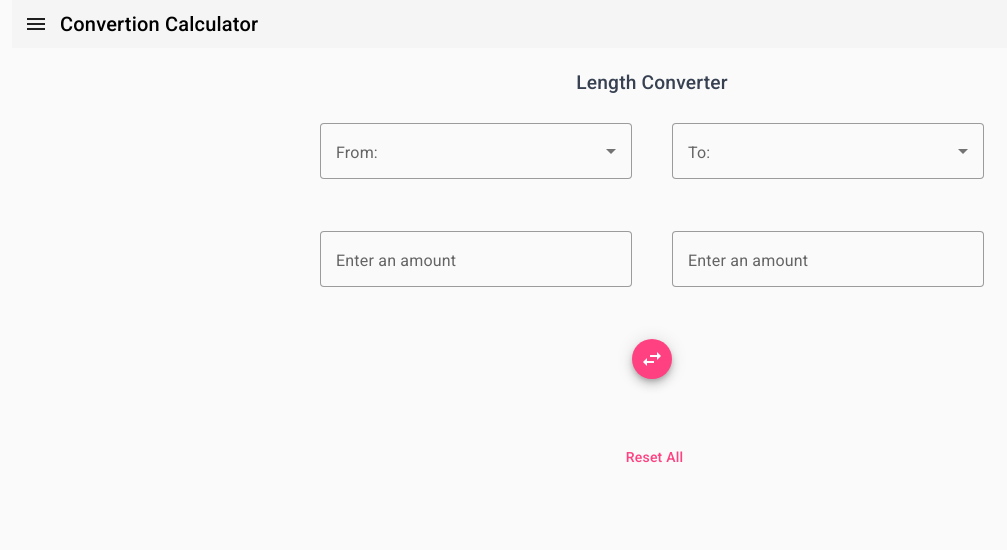
Test: Length Converter Component › should convert kilometers to meters correctly
The width and height of the screenshot is (1007, 550).
Type "1" into the number field with test id "fromAmount". click: (476, 259)
box: x1=336 y1=247 x2=616 y2=271
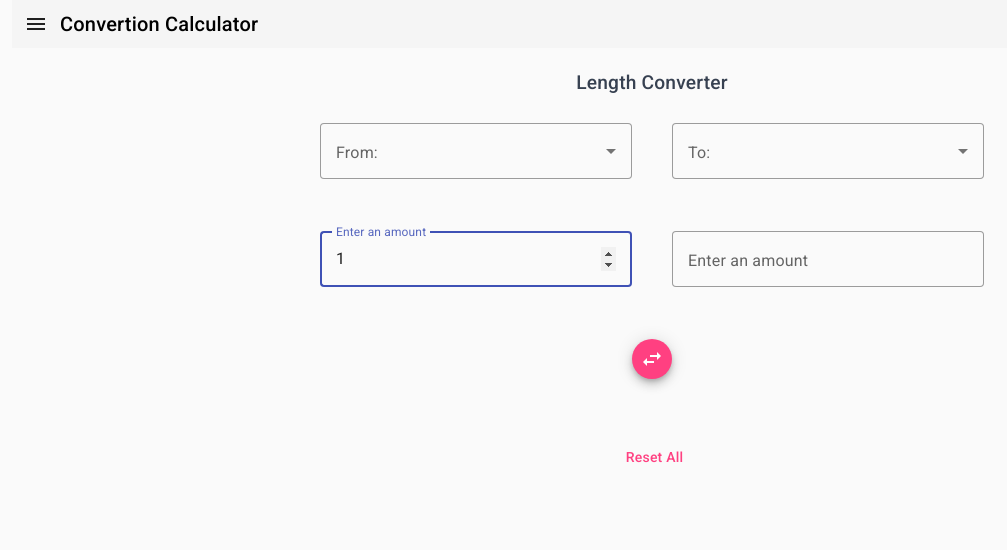
Click the dropdown with test id "fromLength". click: click(476, 151)
box: x1=336 y1=139 x2=616 y2=163
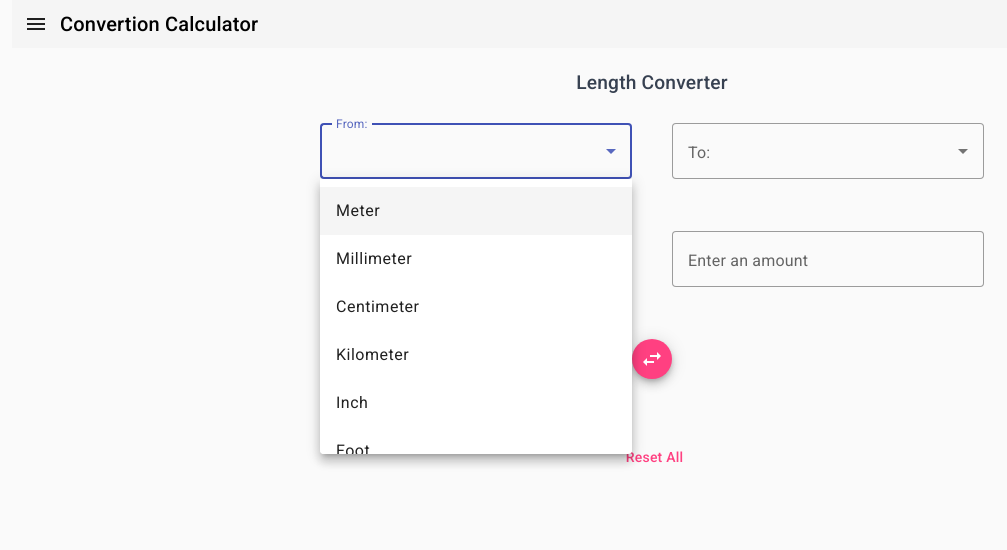
Click the text "Kilometer". click: click(373, 355)
box: x1=336 y1=343 x2=409 y2=367
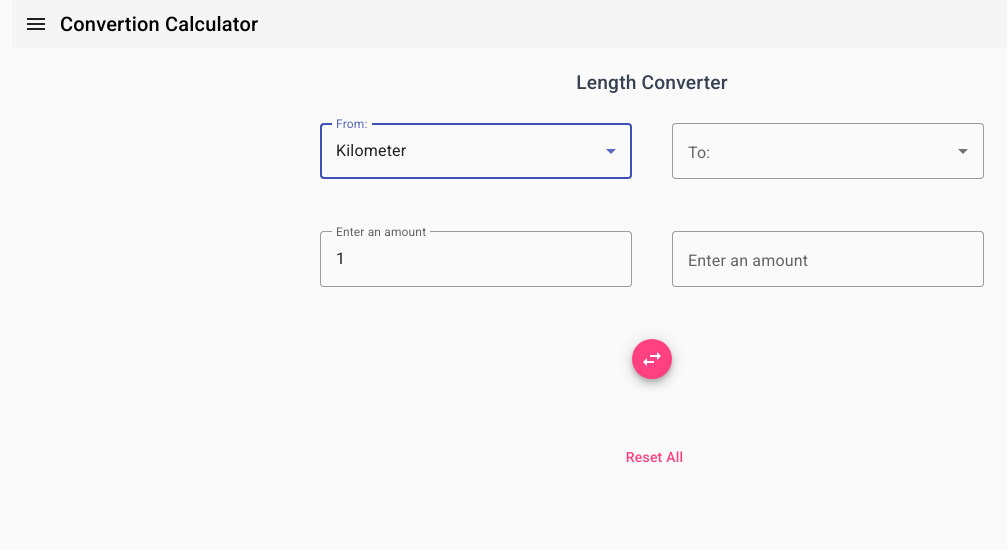
Click the dropdown with test id "toLength". click: click(828, 151)
box: x1=688 y1=139 x2=968 y2=163
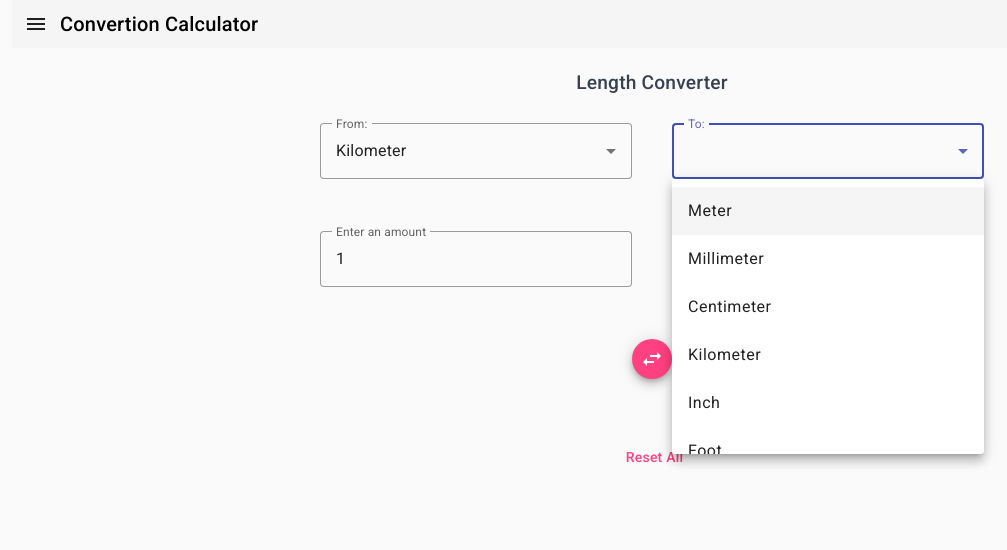
Click the text "Meter". click: click(710, 211)
box: x1=688 y1=199 x2=732 y2=223
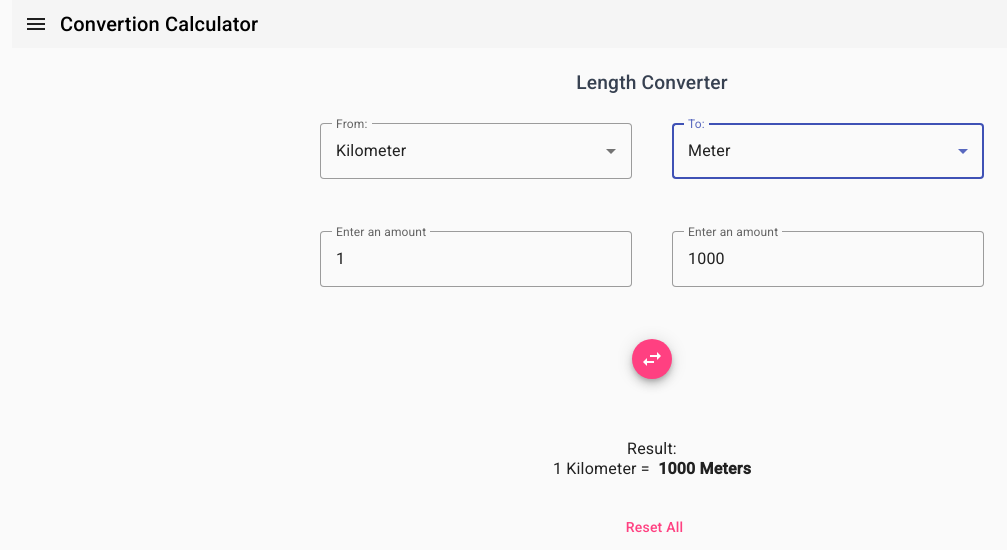
Check: the number field with test id "toAmount" holds "1000", box x1=688 y1=247 x2=968 y2=271
